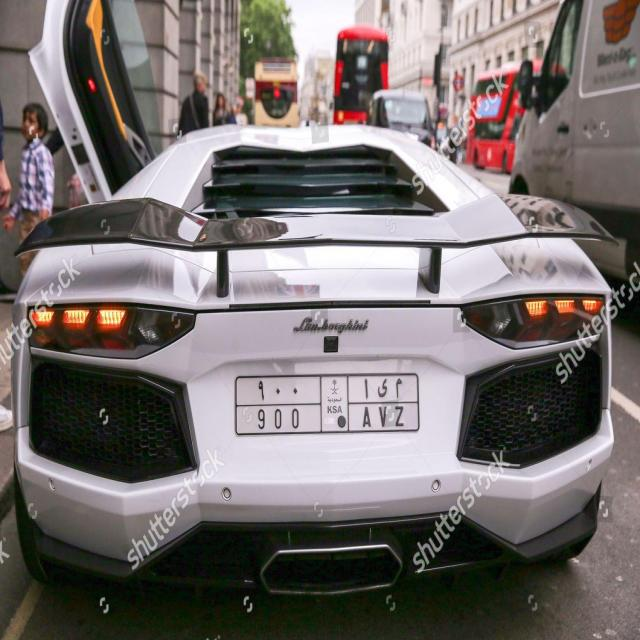license_plate: (227, 359, 423, 445)
